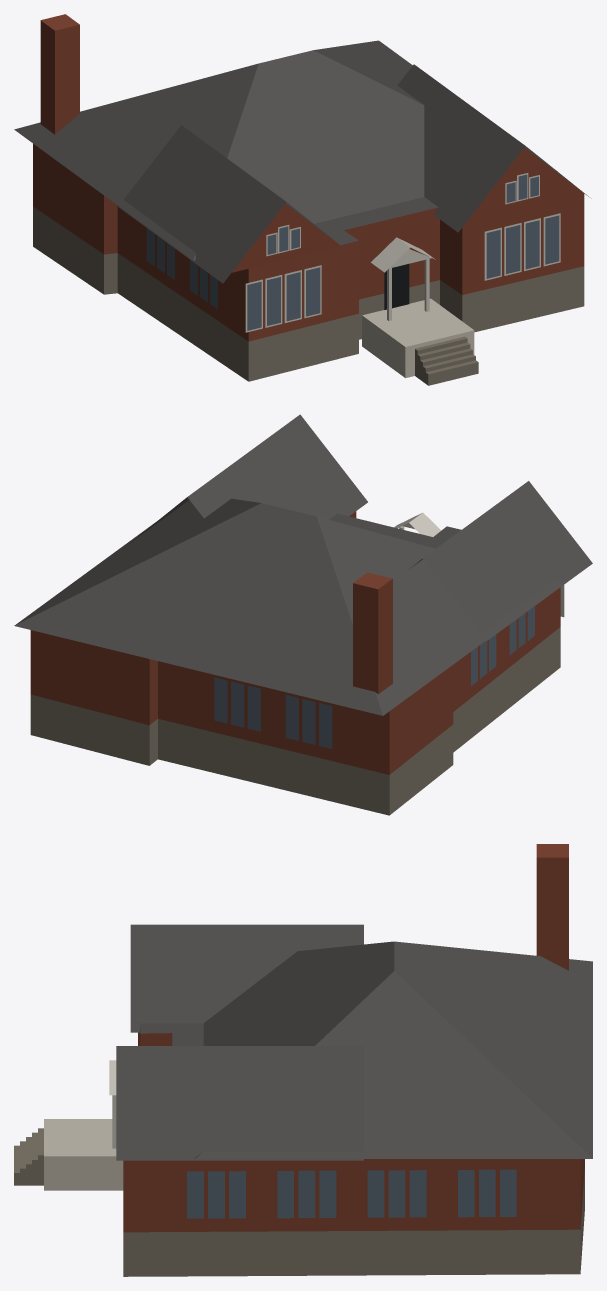
File: pulaski-heights-school-1913.glb
3 views of the same model, one above another, from view 1: azimuth 30°, elevation 25°; view 2: azimuth 150°, elevation 25°; view 3: azimuth 270°, elevation 25° (orthographic). The views are drawn at different scales.
Visible parts, largest first — view 1: pulaski_heights_school_1913; view 2: pulaski_heights_school_1913; view 3: pulaski_heights_school_1913.
Part boxes in pixels (<box>): pulaski_heights_school_1913: <box>14,14,591,385</box>; pulaski_heights_school_1913: <box>14,414,592,815</box>; pulaski_heights_school_1913: <box>14,844,592,1276</box>.
Size of the model in its own units: 23.3 by 13.59 by 28.86.
